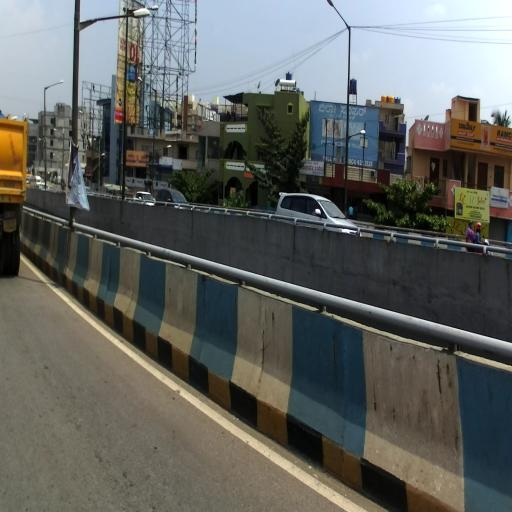street_light_0: (74, 8, 149, 32), (328, 0, 351, 32), (126, 4, 158, 14), (346, 130, 366, 145), (44, 80, 64, 92), (152, 144, 171, 154), (90, 152, 105, 162), (0, 115, 18, 123)
